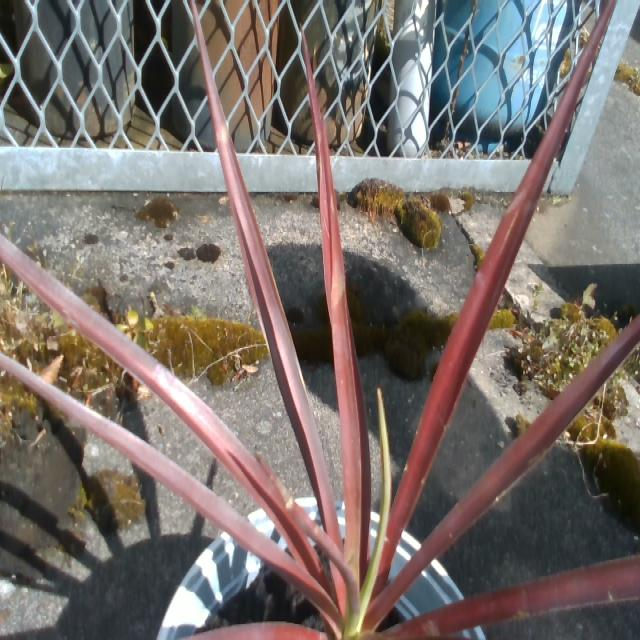Yucca-aloifolia: (376, 0, 616, 593), (0, 355, 334, 611), (371, 319, 639, 619), (190, 0, 332, 524), (0, 237, 274, 508), (304, 36, 370, 577), (388, 557, 639, 639), (187, 623, 326, 639)
